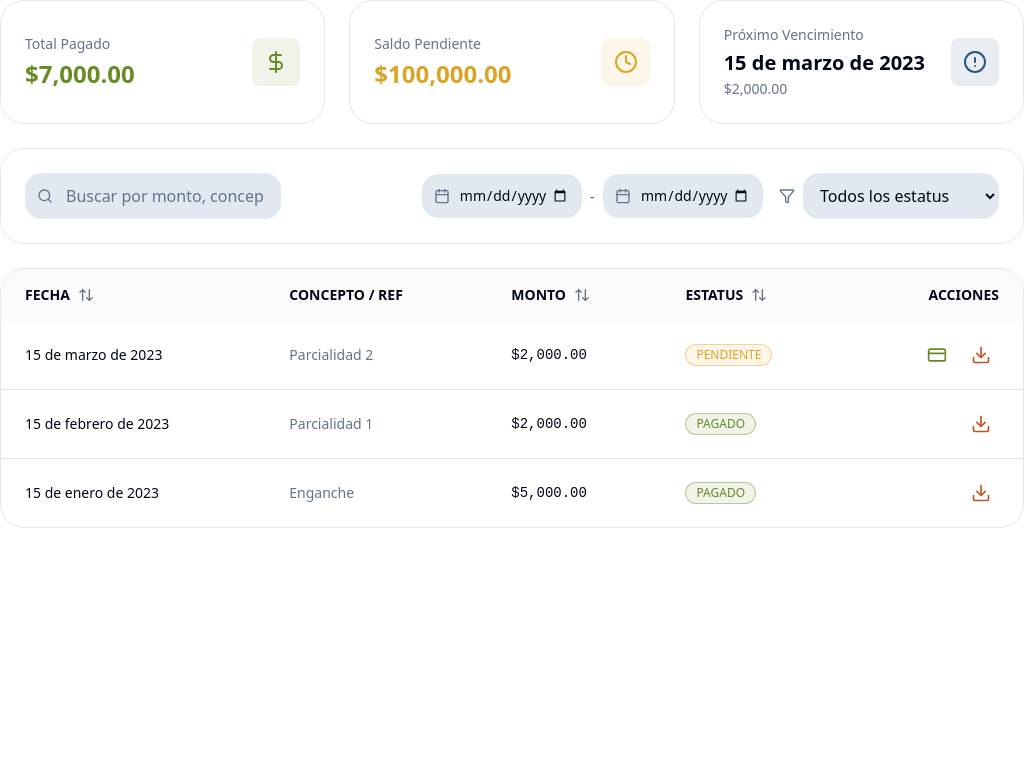
it: TablaPagosCliente Component › searches payments by text
Type "Enganche" into the field with placeholder "Buscar por monto, concepto, lote o venta..." at (153, 196), box [25, 173, 281, 219]
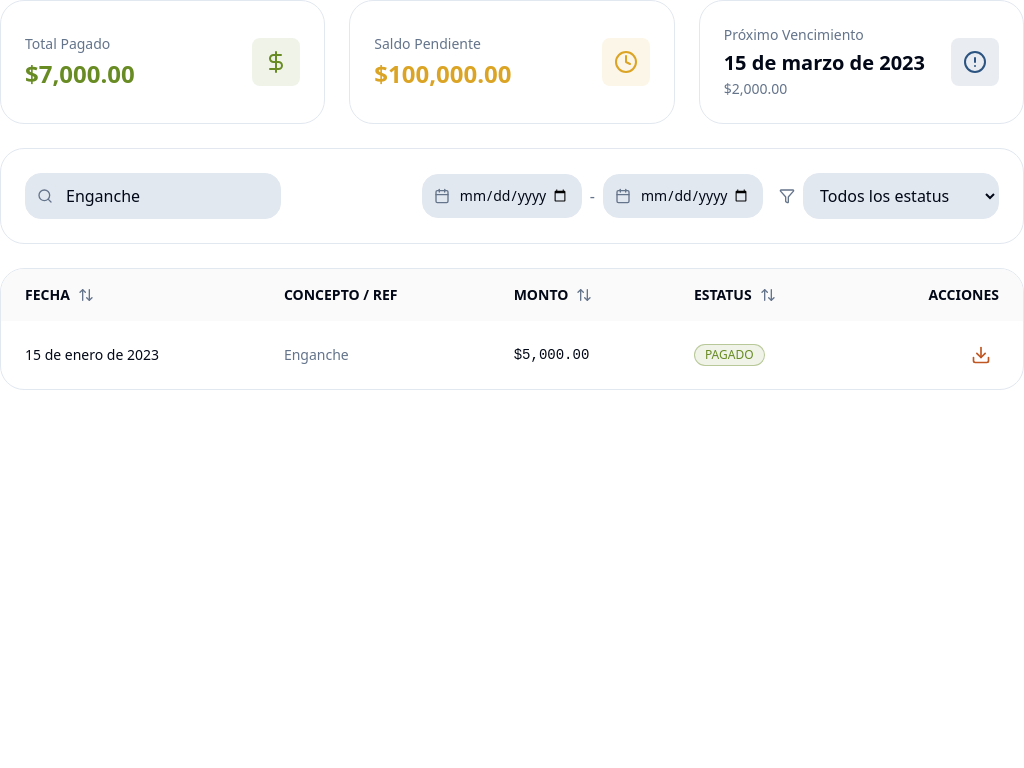
Check: the text "Enganche" is shown, box [260, 321, 490, 389]
Check: the text "Parcialidad 1" is gone
